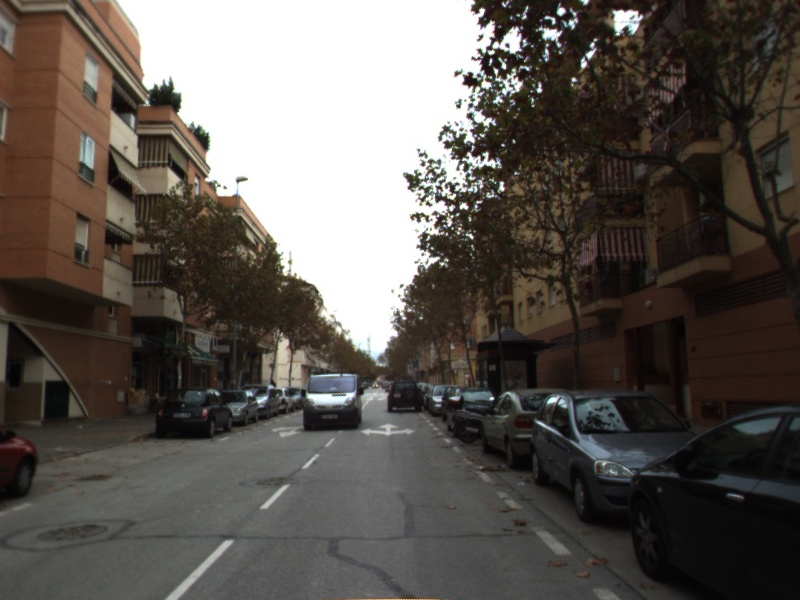STRAIGHT_LEFT_RIGHT: (359, 421, 418, 437)
